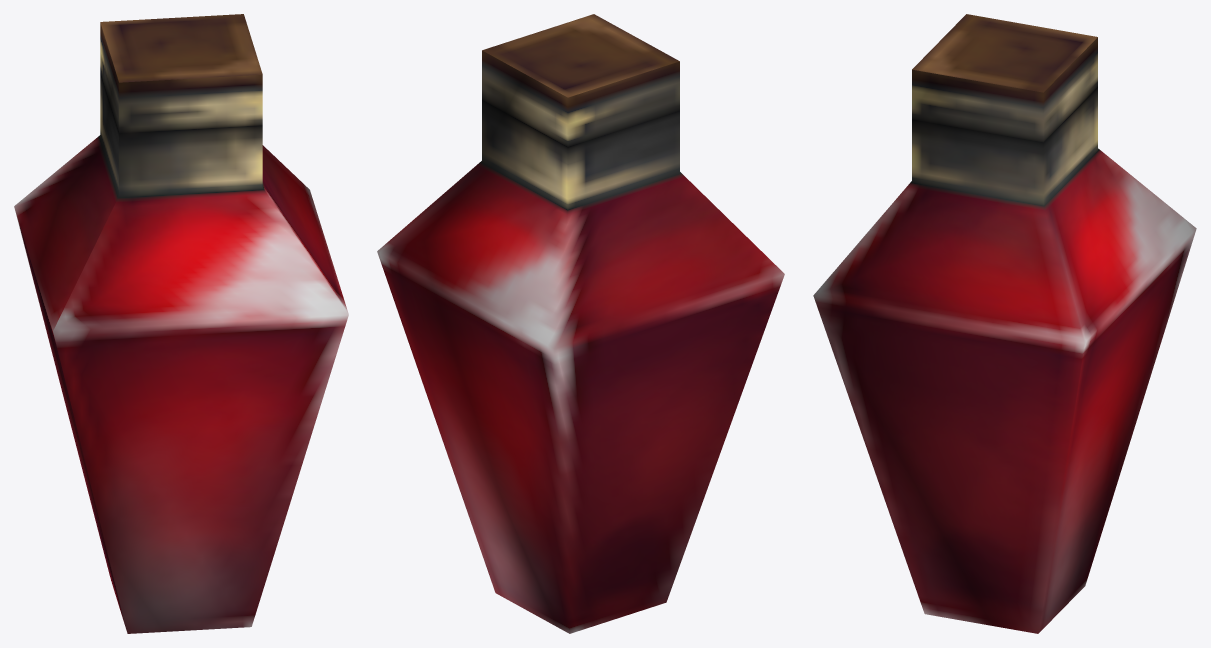
File: potion_minor02.fbx
The picture shows the model from 3 angles, left to right: view 1: azimuth 30°, elevation 25°; view 2: azimuth 150°, elevation 25°; view 3: azimuth 270°, elevation 25°; orthographic projection. The views are drawn at different scales.
Visible parts, largest first — view 1: potion_minor02; view 2: potion_minor02; view 3: potion_minor02.
Boxes of the visible parts, x1,y1,x2,y2 form: potion_minor02: [14, 14, 348, 633]; potion_minor02: [377, 14, 784, 633]; potion_minor02: [813, 14, 1196, 633].
Size of the model in its own units: 12.74 by 20.05 by 12.74.
